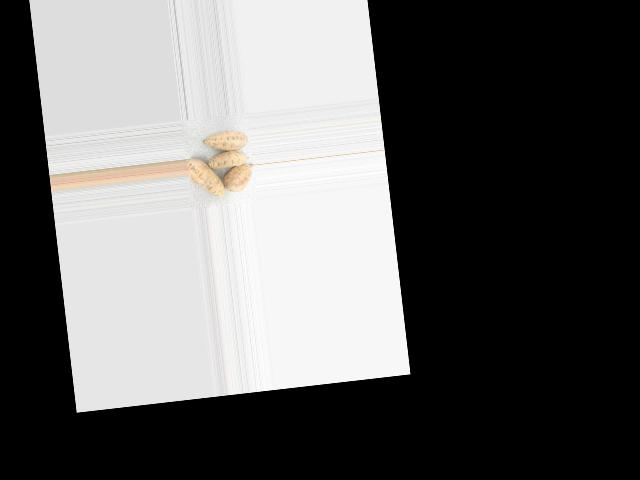sweet_potato: (184, 150, 225, 204)
